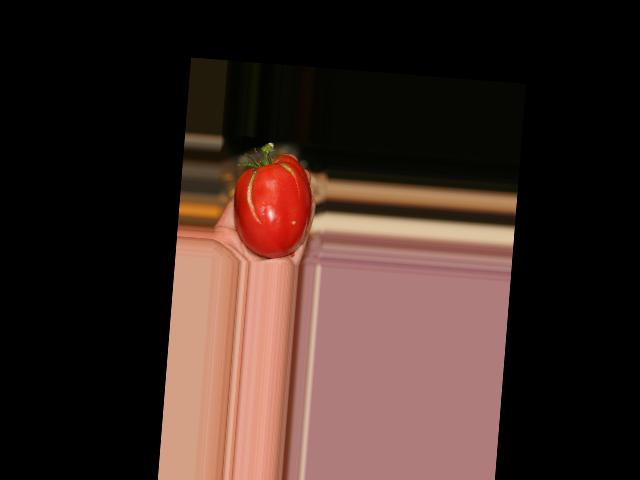tomato: (231, 150, 316, 261)
